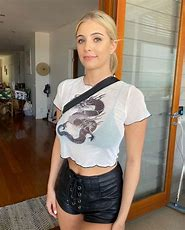person: (74, 10, 118, 74)
